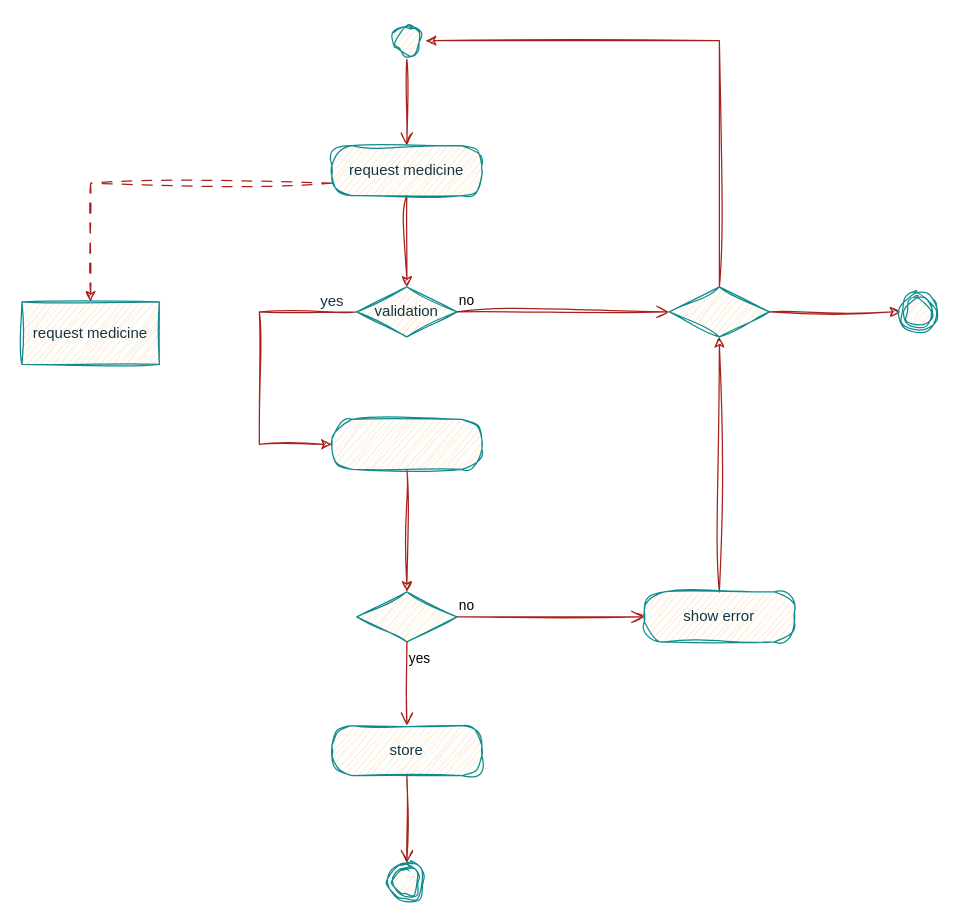
Image size: 960x923. Some labels were removed from this diagram. The shapes that lost their labels are listed below. From the top down, each one's centre as x and y in pixels, then its label:
(x=406, y=443): store database
(x=406, y=616): success/fail
